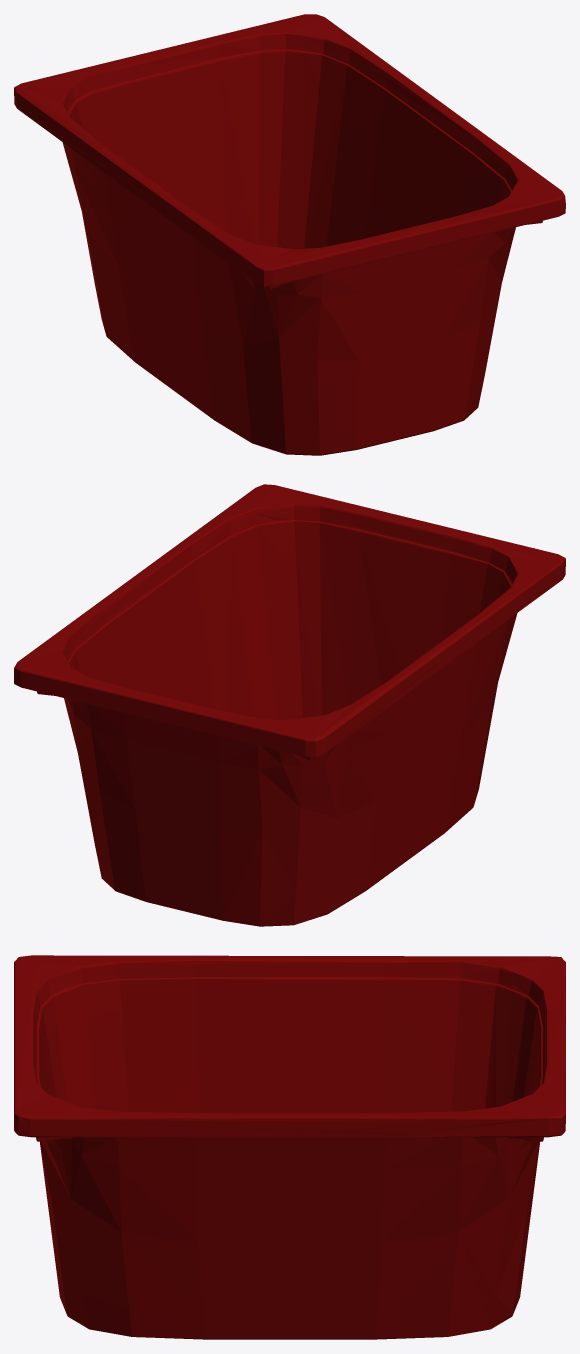
Rendered from plastic box.FBX.
The picture shows the model from 3 angles, top to bottom: view 1: azimuth 30°, elevation 25°; view 2: azimuth 150°, elevation 25°; view 3: azimuth 270°, elevation 25°; orthographic projection. The views are drawn at different scales.
Parts seen in each view (by area): view 1: plastic box; view 2: plastic box; view 3: plastic box.
Part boxes in pixels (x1=…): plastic box: x1=14, y1=14, x2=565, y2=455; plastic box: x1=14, y1=484, x2=565, y2=926; plastic box: x1=14, y1=955, x2=565, y2=1339.
Size of the model in its own units: 293 by 418 by 203.
